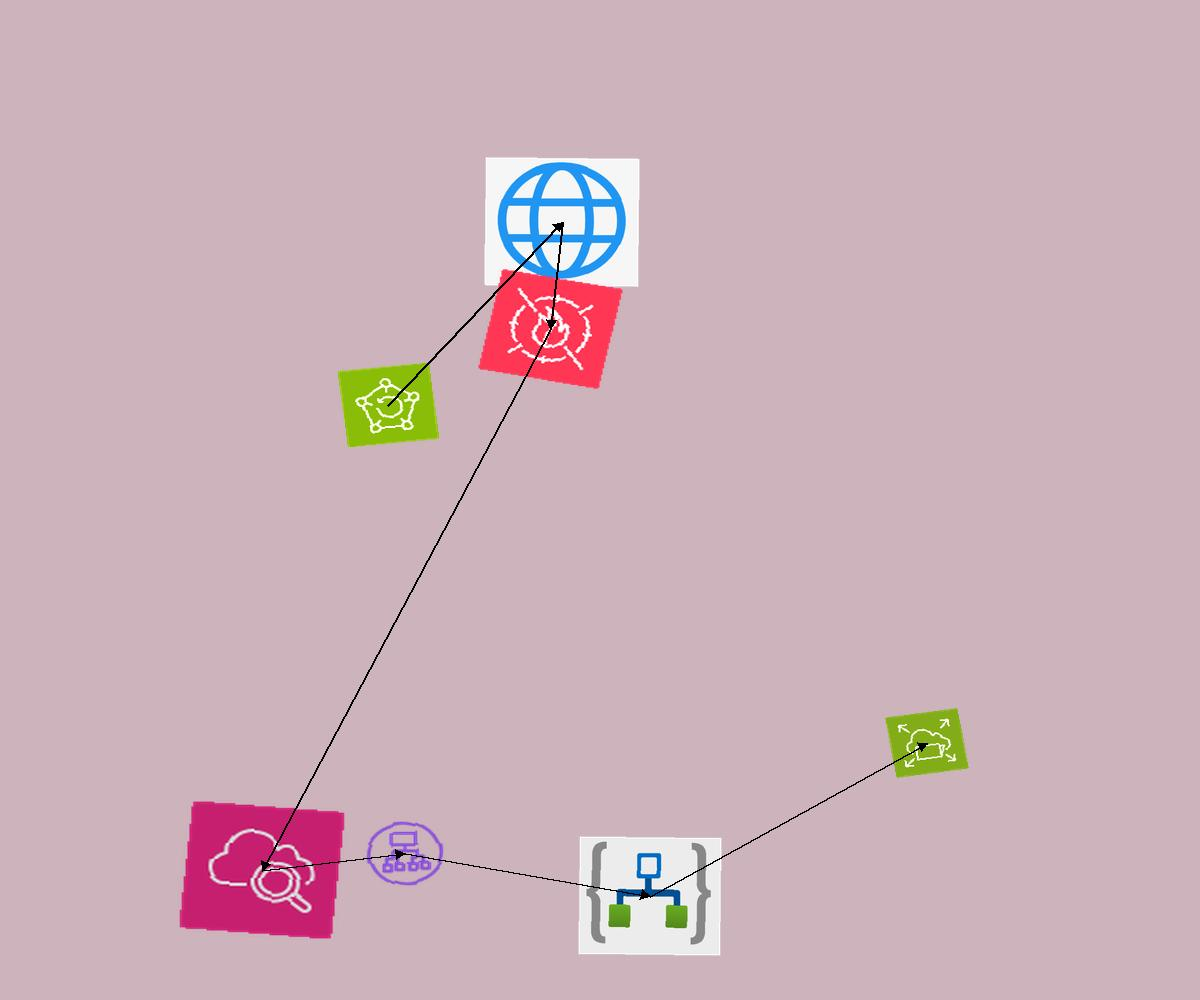AWS-Backup: (337, 362, 440, 448)
AWS-CloudWatch: (178, 800, 346, 940)
AWS-EFS: (885, 708, 969, 778)
AWS-Res_Elastic-Load-Balancing_Application-Load-Balancer: (360, 816, 450, 891)
AWS-WAF: (477, 268, 624, 390)
Azure_http: (484, 157, 640, 287)
Azure_integration-204-Logic-Apps: (578, 836, 722, 956)
